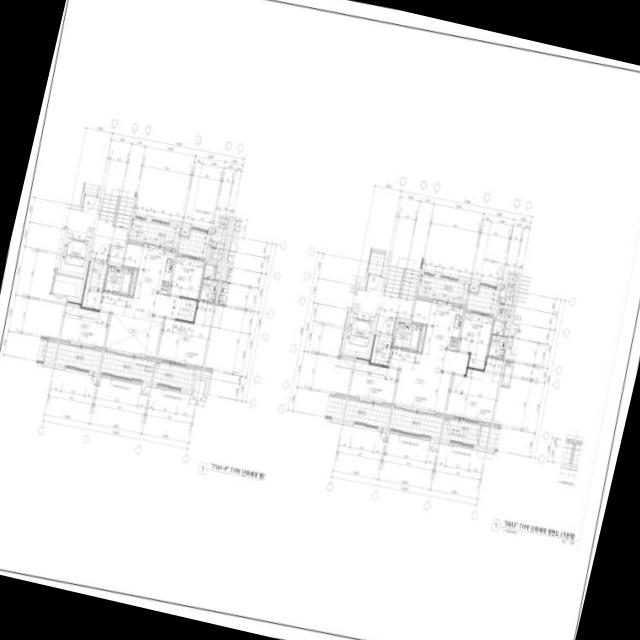background: (0, 0, 640, 640)
space_balconi: (127, 217, 209, 257), (416, 274, 498, 313), (100, 351, 153, 381), (389, 407, 442, 437), (441, 417, 489, 446), (55, 342, 101, 371), (344, 398, 390, 427), (152, 361, 201, 388)
space_bedroom: (445, 357, 502, 422), (156, 301, 213, 366), (59, 302, 109, 347), (348, 358, 397, 403), (458, 312, 492, 368), (169, 256, 204, 298)
space_elevator: (59, 236, 90, 274), (343, 316, 374, 353)
space_elevator_hall: (62, 194, 126, 259), (346, 274, 413, 333)
space_front: (81, 260, 107, 309), (370, 334, 392, 365)
space_kitchen: (436, 304, 463, 351), (147, 248, 174, 295)
space_living_room: (388, 298, 468, 413), (100, 242, 179, 357)
space_other: (52, 273, 82, 297), (498, 271, 517, 304), (210, 215, 229, 248), (109, 247, 123, 263), (417, 325, 425, 351), (209, 247, 223, 261), (497, 304, 511, 317), (129, 269, 136, 295), (350, 278, 364, 287), (503, 321, 510, 335), (221, 266, 227, 280), (215, 265, 221, 279), (468, 283, 478, 291), (179, 227, 189, 235)
space_staircase: (382, 251, 421, 301), (96, 186, 134, 231), (176, 297, 196, 321)
space_toilet: (392, 321, 421, 350), (104, 265, 132, 294), (198, 263, 218, 301), (487, 319, 506, 358)
